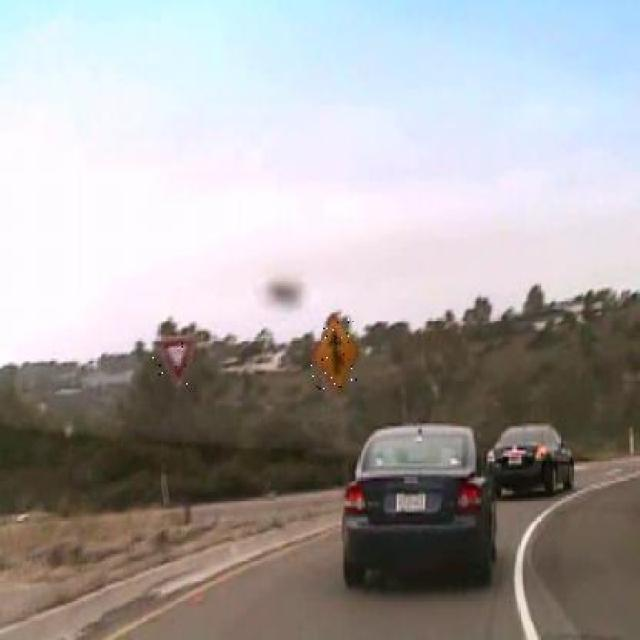merge: (311, 314, 360, 394)
yield: (152, 334, 195, 386)
